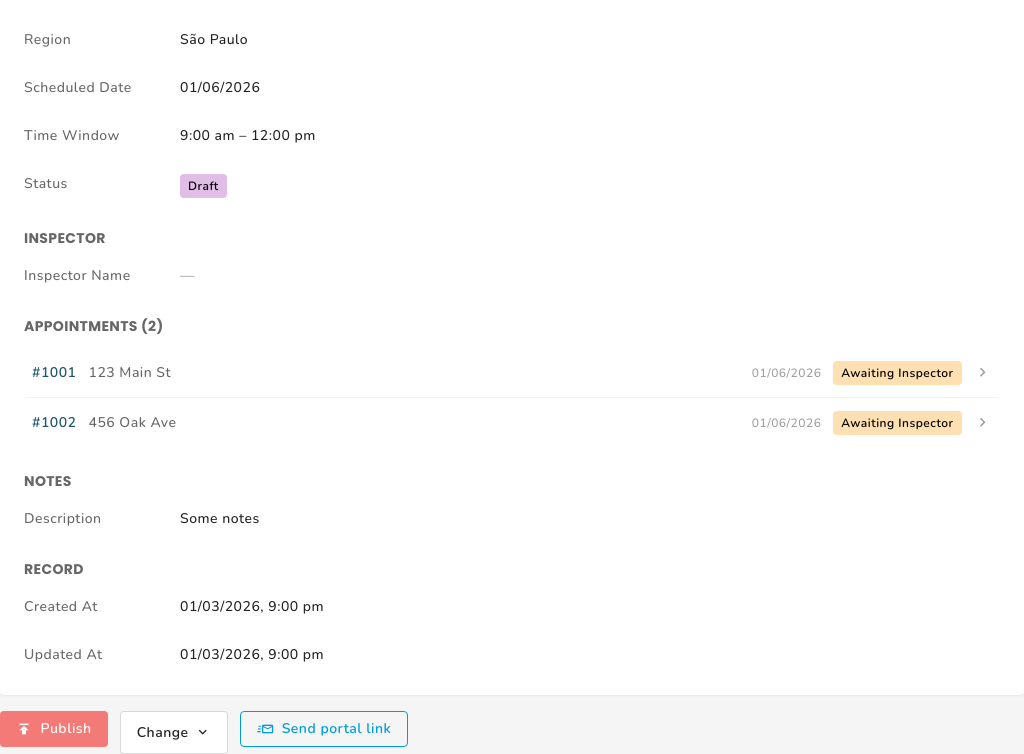
Test case: ServiceGroupDetailPage › opens the Send portal link dialog on click
The width and height of the screenshot is (1024, 754).
(page scrolled)
Click the button "Send portal link": point(324, 729) 240,711 -> 408,747
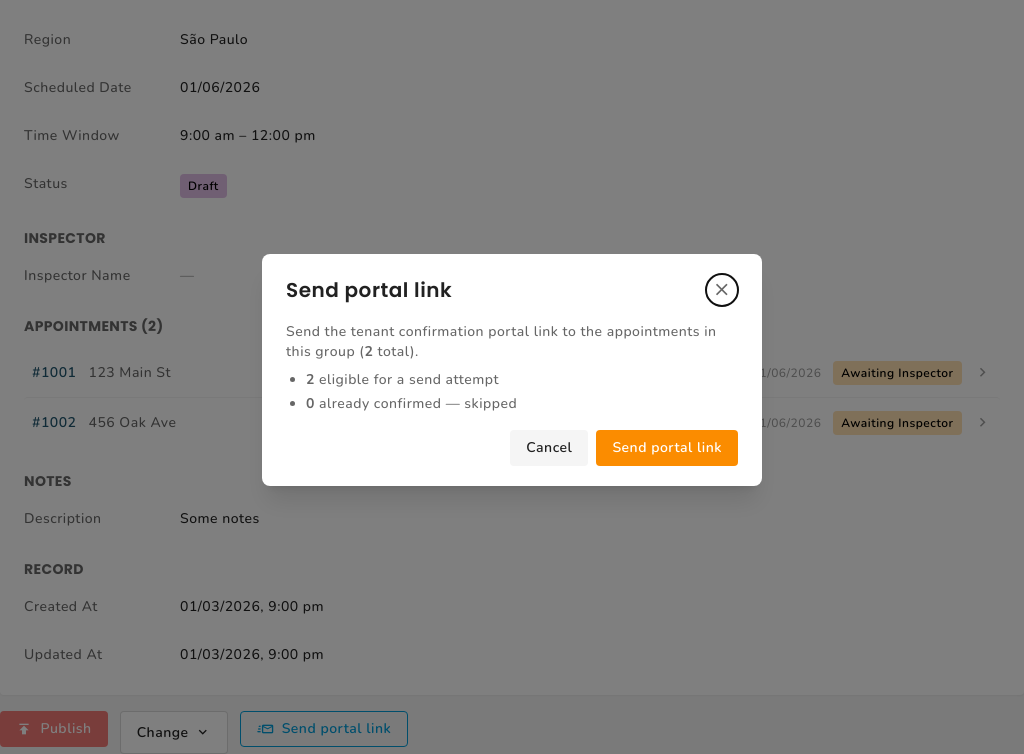
Expected: the list item "2 eligible for a send attempt" is shown, 306,370 -> 499,389
